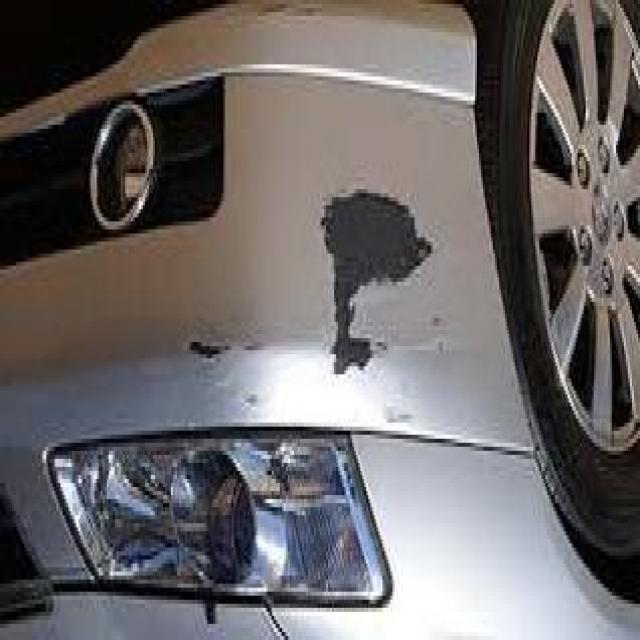scratch: (314, 179, 439, 397), (180, 326, 271, 370)
